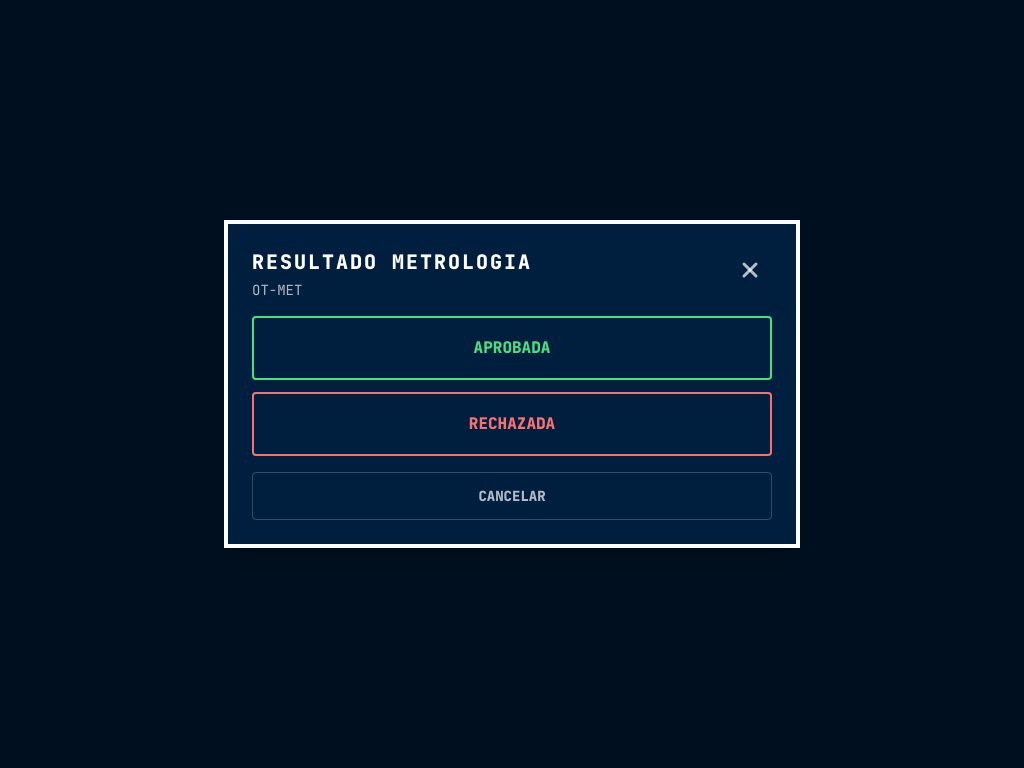
Test: MetrologiaModal — step 2: worker selection › transitions to worker selection after clicking APROBADA
This screenshot has width=1024, height=768.
Click the button "APROBADA" at (512, 348), box [252, 316, 772, 380]
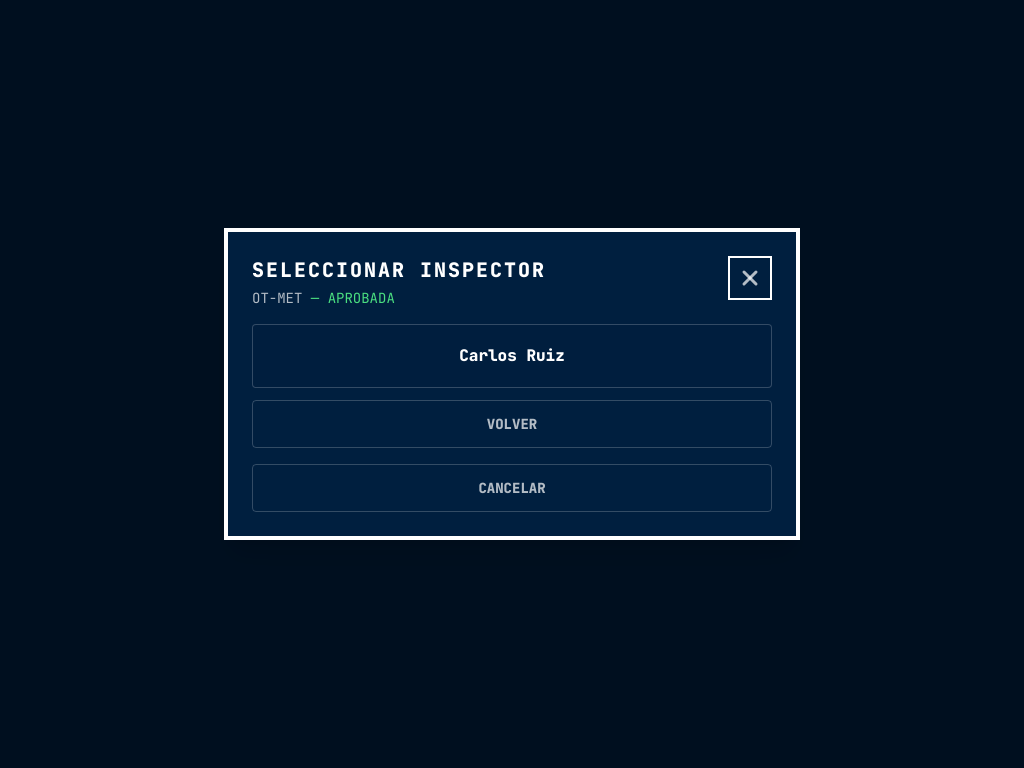
Expected: the heading "SELECCIONAR INSPECTOR" is shown, [252, 256, 546, 284]
